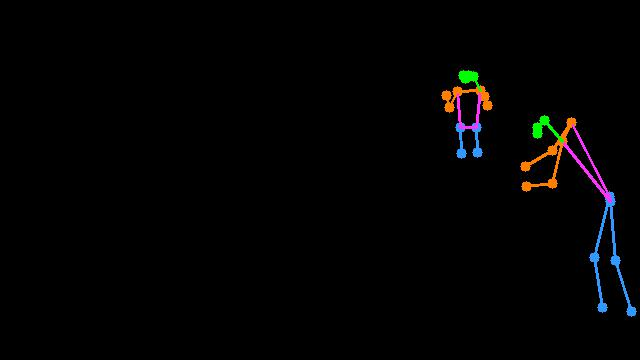normal: (506, 101, 640, 327), (435, 61, 499, 166)
